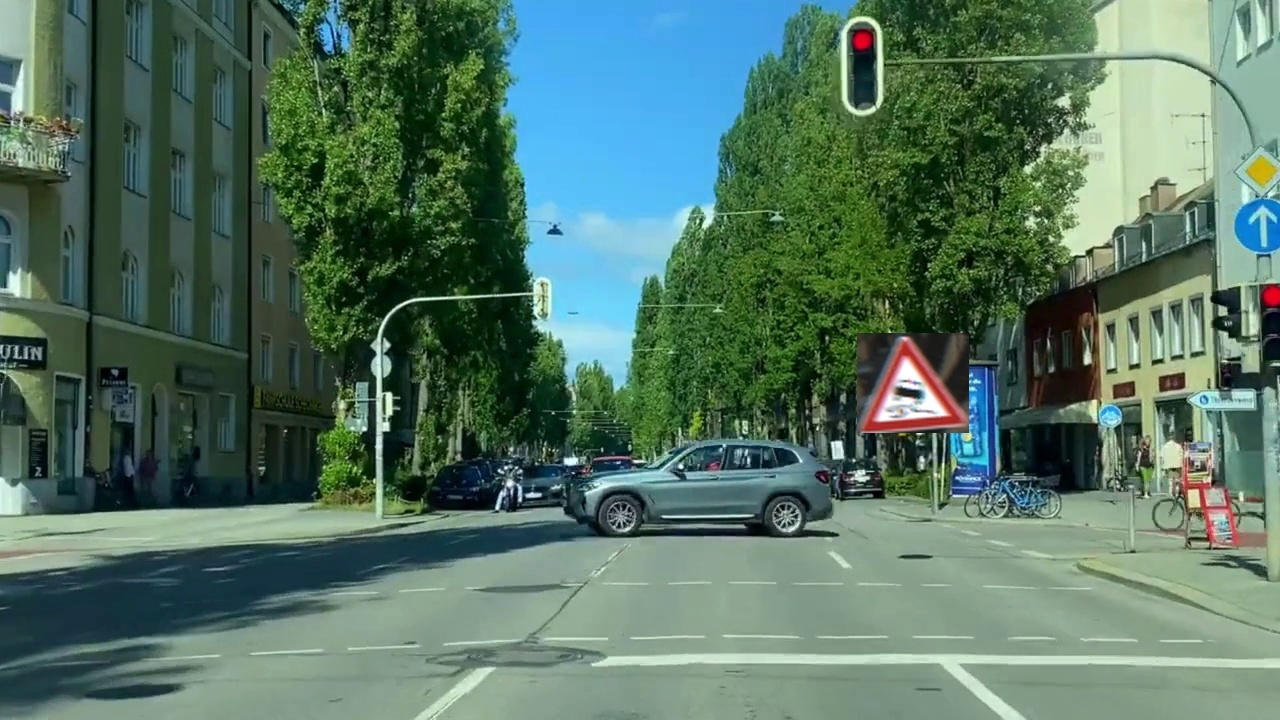Slippery: (857, 333, 969, 433)
